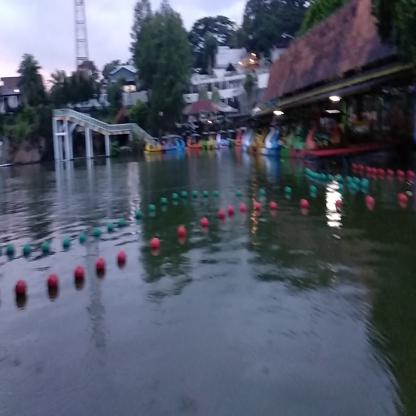green_buoy: (5, 242, 15, 258), (361, 179, 370, 192), (148, 203, 156, 217), (62, 237, 70, 249), (42, 242, 50, 254), (23, 244, 31, 256), (160, 198, 168, 209), (172, 191, 178, 205), (118, 218, 126, 228), (350, 179, 356, 192), (135, 210, 142, 221), (107, 222, 114, 233), (285, 187, 292, 197), (311, 187, 318, 197), (181, 192, 189, 200), (79, 234, 85, 244), (193, 191, 199, 200)
red_buoy: (46, 275, 60, 295), (14, 280, 26, 302), (398, 192, 409, 209), (96, 259, 106, 276), (117, 250, 126, 268), (74, 268, 84, 284), (408, 170, 416, 187), (178, 225, 186, 242), (366, 196, 374, 211), (151, 239, 159, 254), (300, 198, 308, 212), (270, 201, 279, 212), (202, 218, 209, 231), (228, 205, 234, 217), (219, 211, 225, 223), (256, 202, 262, 213)
